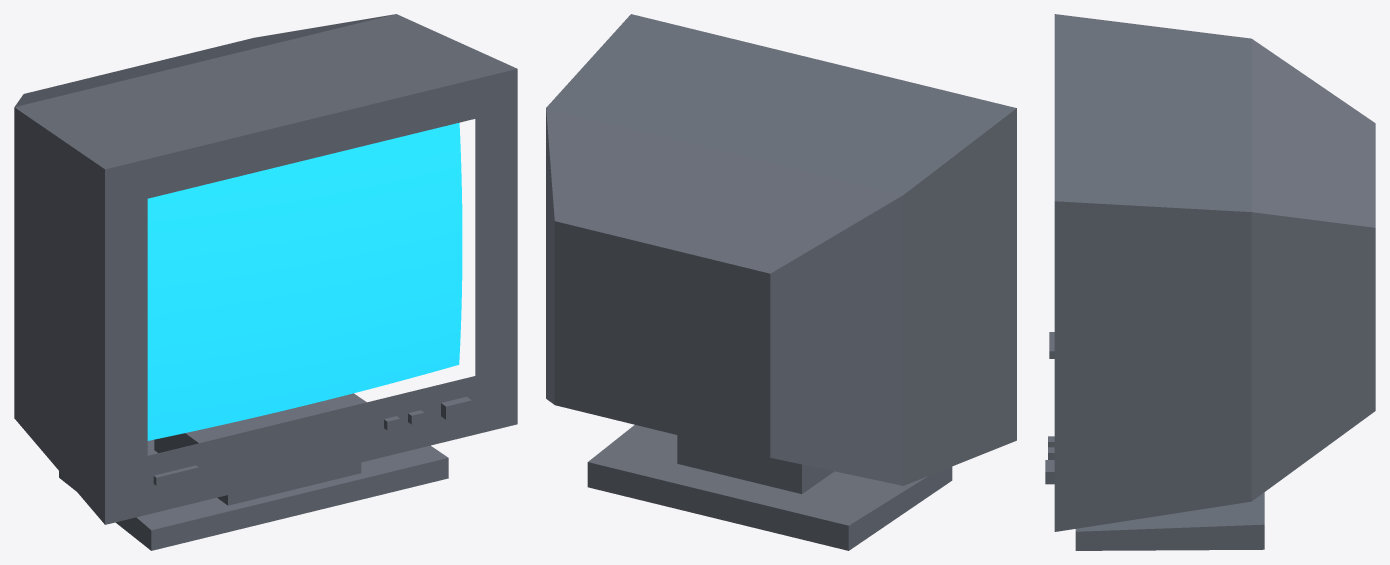
Rendered from CRT_Monitor.glb.
The picture shows the model from 3 angles, left to right: view 1: azimuth 30°, elevation 25°; view 2: azimuth 150°, elevation 25°; view 3: azimuth 270°, elevation 25°; orthographic projection. The views are drawn at different scales.
Parts seen in each view (by area): view 1: CRT_Monitor; view 2: CRT_Monitor; view 3: CRT_Monitor.
Part boxes in pixels (x1,y1,x2,y2): CRT_Monitor: [14, 14, 517, 550]; CRT_Monitor: [546, 14, 1016, 550]; CRT_Monitor: [1045, 14, 1375, 550].
Size of the model in its own units: 13.6 by 12.83 by 10.13.
